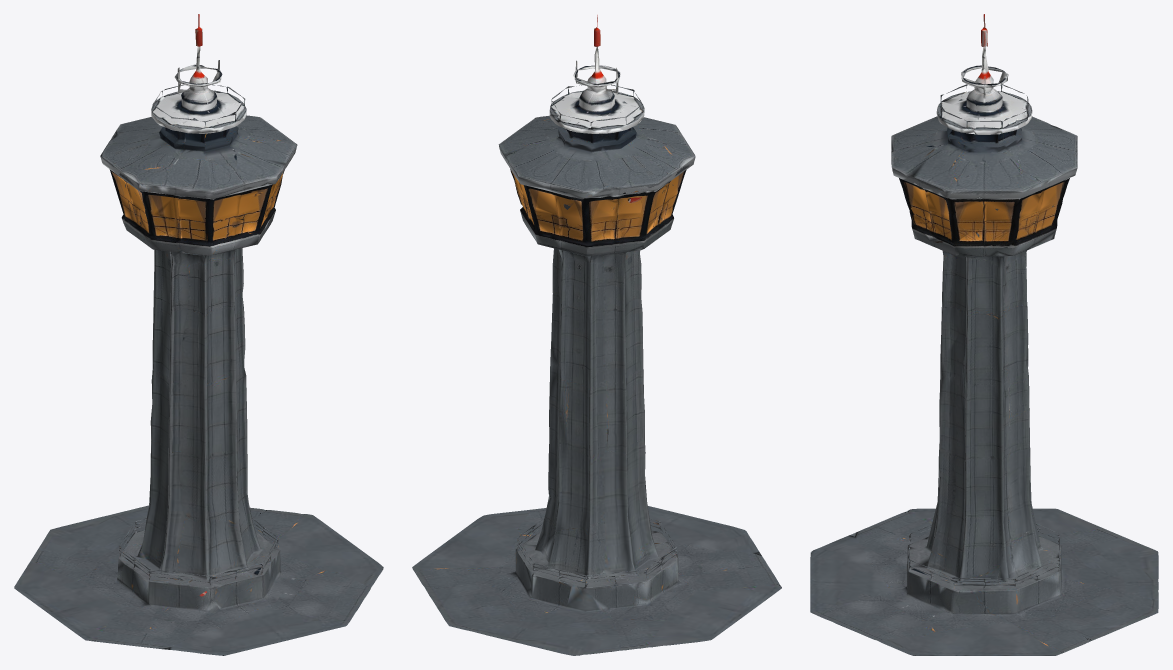
File: co_tower.glb
3 views of the same model, side by side, from view 1: azimuth 30°, elevation 25°; view 2: azimuth 150°, elevation 25°; view 3: azimuth 270°, elevation 25° (orthographic).
Bounding box in the file's own units: 1.06 × 1.9 × 1.05.
1 material, 1 textured.
